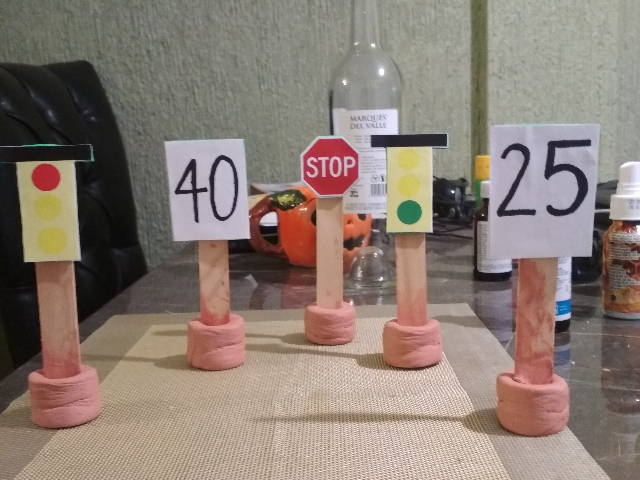Green Traffic Light: (367, 132, 446, 236)
Red Traffic Light: (1, 139, 96, 265)
Speed Limit 25: (483, 120, 600, 260)
Speed Limit 40: (160, 136, 253, 245)
Stop Sign: (296, 134, 362, 198)
